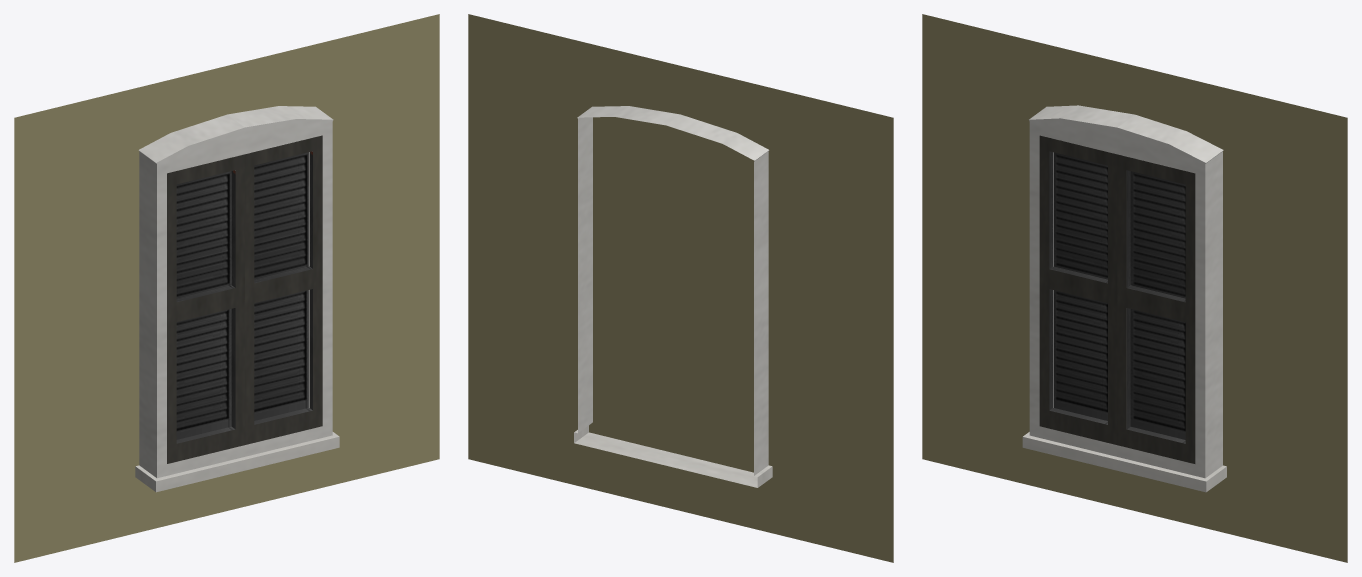
Rendered from Window_WOOD_CLOSE_THREE_BY_THREE.fbx.
The picture shows the model from 3 angles, left to right: view 1: azimuth 30°, elevation 25°; view 2: azimuth 150°, elevation 25°; view 3: azimuth 330°, elevation 25°; orthographic projection.
Parts seen in each view (by area): view 1: Wood_Window_Three_Close; view 2: Wood_Window_Three_Close; view 3: Wood_Window_Three_Close.
Part boxes in pixels (x1=…): Wood_Window_Three_Close: x1=14, y1=14, x2=439, y2=562; Wood_Window_Three_Close: x1=468, y1=14, x2=893, y2=562; Wood_Window_Three_Close: x1=922, y1=14, x2=1347, y2=562.
Bounding box in the file's own units: 3 × 3 × 0.4351.
